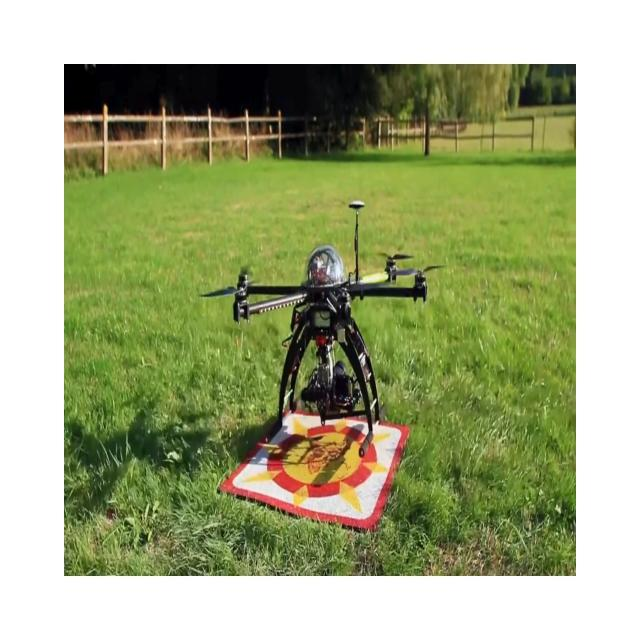drone: (198, 199, 446, 459)
